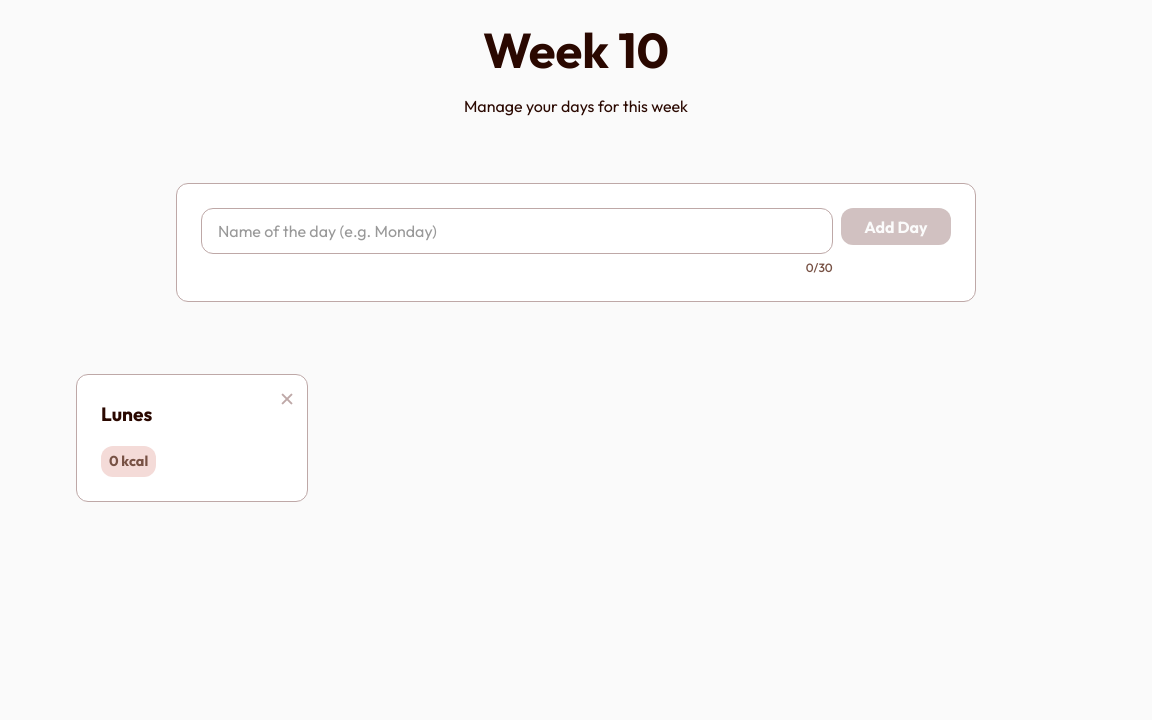
WeekItem - Days Management (Integration) › debe crear un nuevo día correctamente y actualizar la lista
This screenshot has width=1152, height=720.
Type "Miércoles" into the field with placeholder "Name of the day (e.g. Monday)" at (517, 231), box x1=201 y1=208 x2=833 y2=254
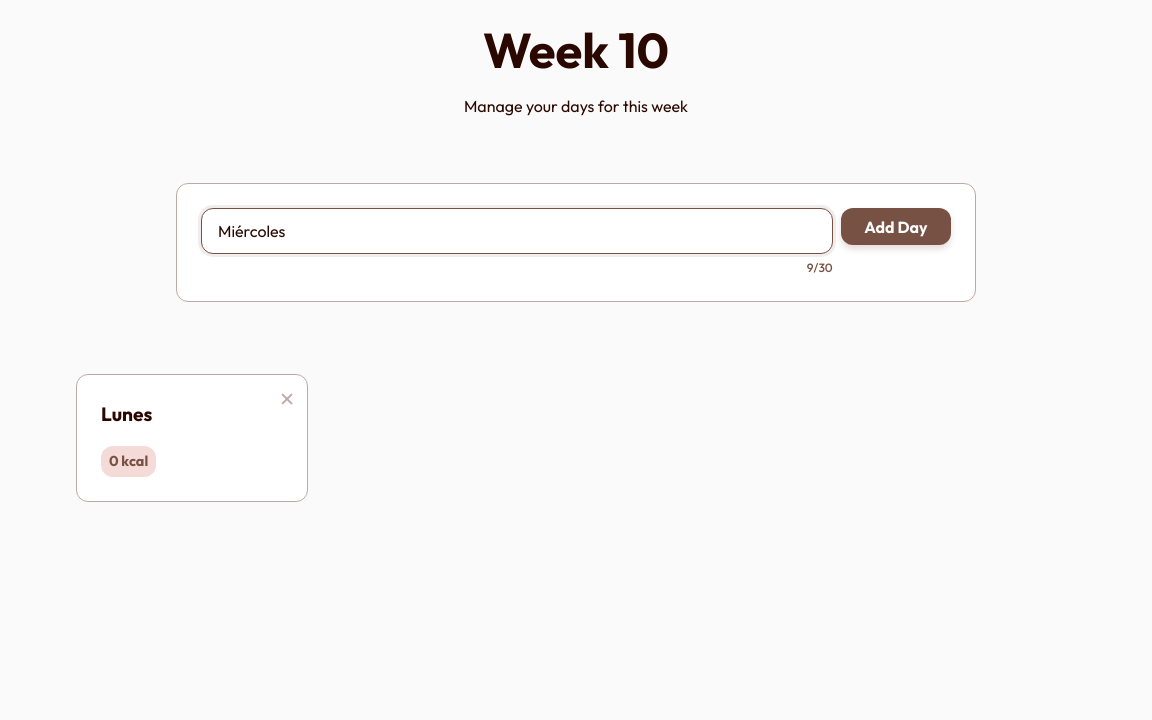
Note: Clic en "Add Day"
Click the button "Add Day" at (896, 227), box x1=841 y1=208 x2=951 y2=246
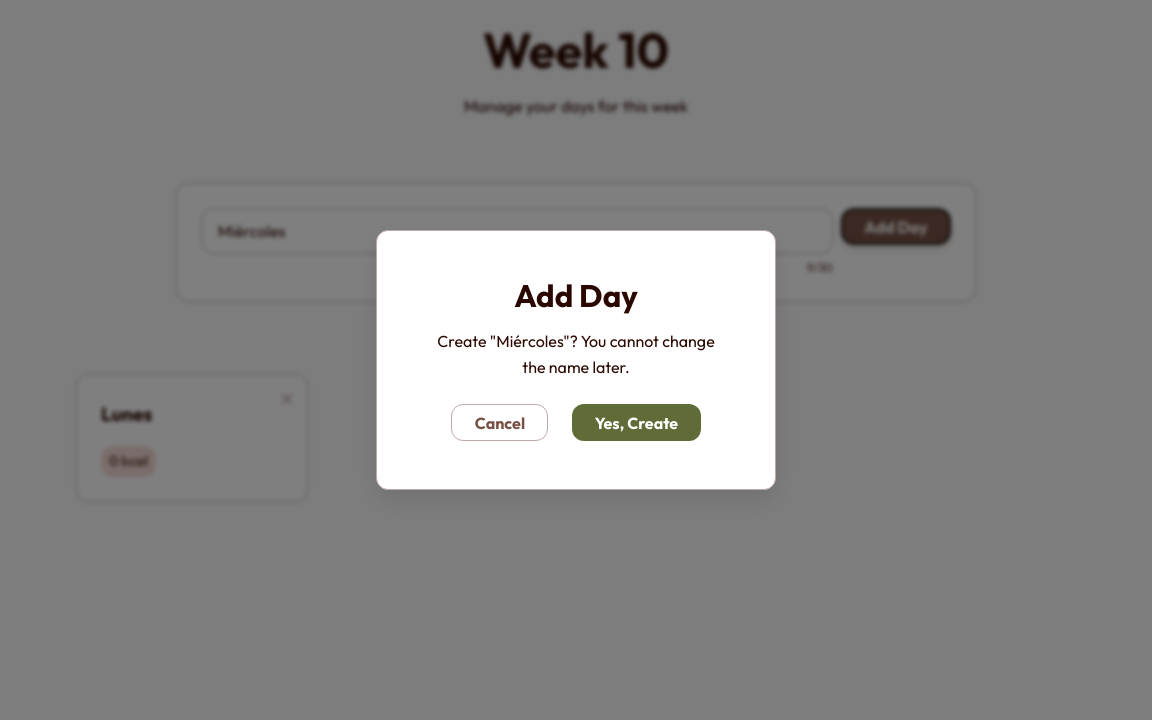
Note: Verificar Modal (Botón actualizado a "Yes, Create")
Click the button "Yes, Create" at (637, 423), box x1=572 y1=404 x2=701 y2=441
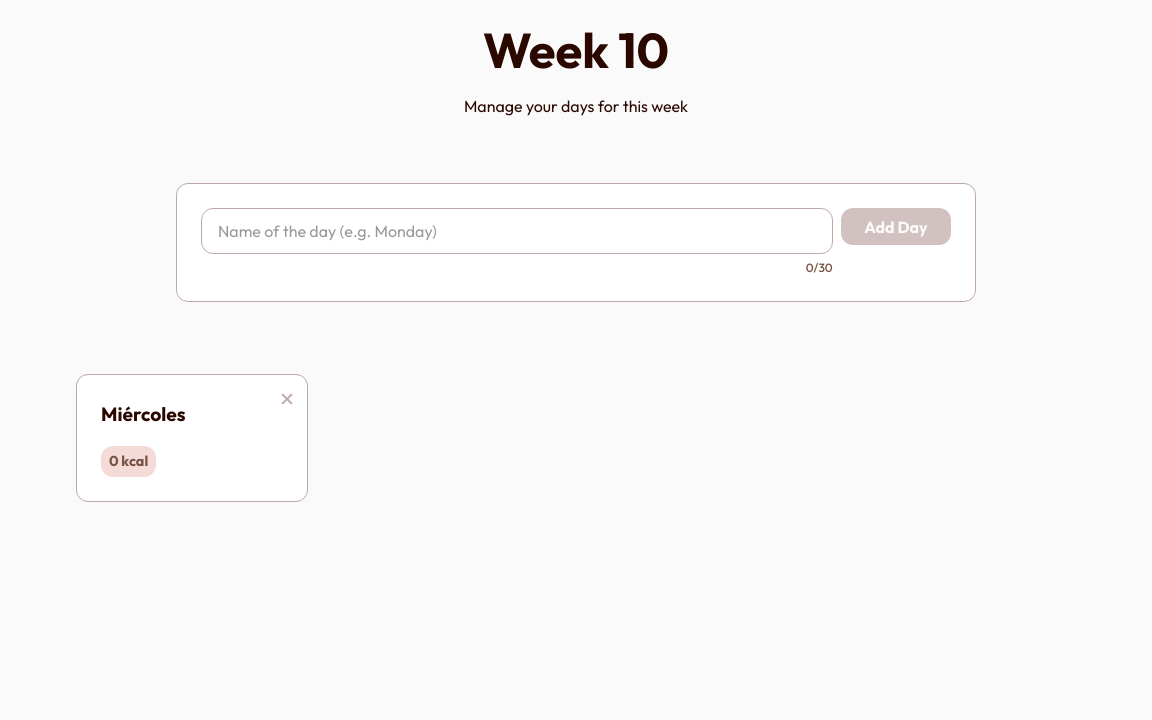
Expected: the text "Miércoles" is shown, x1=101 y1=402 x2=186 y2=426
Expected: the field with placeholder "Name of the day (e.g. Monday)" is empty, x1=201 y1=208 x2=833 y2=254
